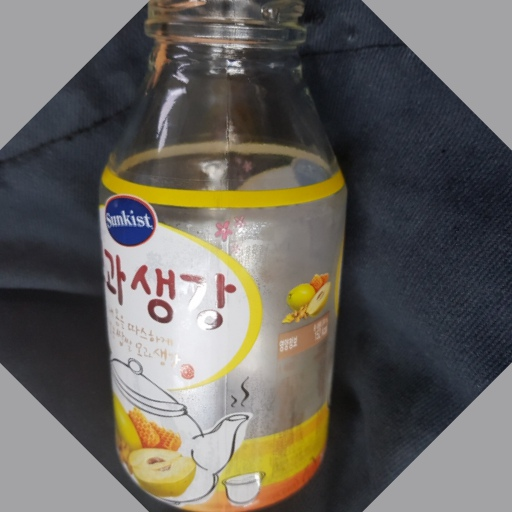Glass_4: (86, 1, 351, 500)
